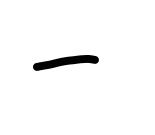minus: (32, 54, 99, 72)
